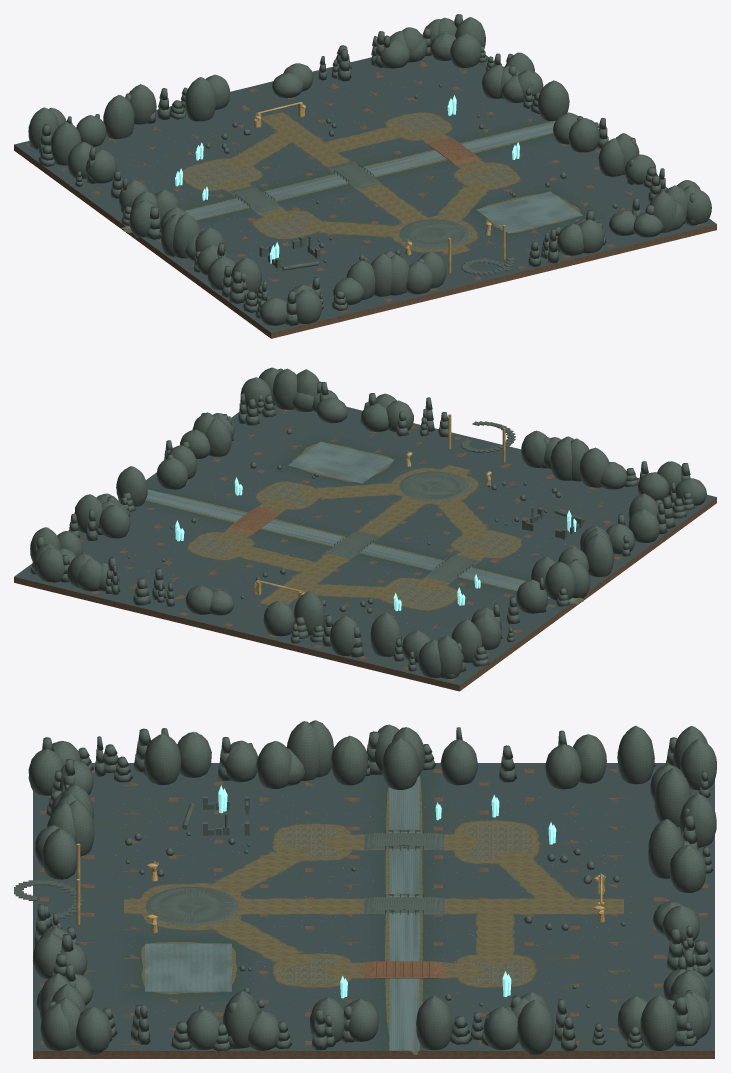
File: naga-cave.glb
3 renders of one model, top to bottom at view 1: azimuth 30°, elevation 25°; view 2: azimuth 150°, elevation 25°; view 3: azimuth 270°, elevation 25°, orthographic. The views are drawn at different scales.
Parts seen in each view (by area): view 1: Ground - varied meadow | ground_naga_cave, Open cave boundary | stone, Perimeter weathered rock strata | stone, Tracks - worn earth | path, Soil foundation | earth, Water surface 00 | water, Courtyard paving | paving_cave, Feathered road shoulders | path_edge, Water surface 01 | water, Damp canal edges | mud, Naga altar stone | stone, Bridge continuous deck | stone (+3 smaller); view 2: Ground - varied meadow | ground_naga_cave, Open cave boundary | stone, Perimeter weathered rock strata | stone, Tracks - worn earth | path, Soil foundation | earth, Water surface 00 | water, Courtyard paving | paving_cave, Feathered road shoulders | path_edge, Water surface 01 | water, Damp canal edges | mud, Naga altar stone | stone, Bridge continuous deck | stone (+3 smaller); view 3: Ground - varied meadow | ground_naga_cave, Open cave boundary | stone, Tracks - worn earth | path, Perimeter weathered rock strata | stone, Soil foundation | earth, Water surface 00 | water, Courtyard paving | paving_cave, Feathered road shoulders | path_edge, Water surface 01 | water, Naga altar stone | stone, Damp canal edges | mud, Bridge continuous deck | stone (+5 smaller).
Boxes of the visible parts, <box> form: Ground - varied meadow | ground_naga_cave: <box>14,55,716,332</box>; Open cave boundary | stone: <box>28,17,711,325</box>; Perimeter weathered rock strata | stone: <box>29,14,697,325</box>; Tracks - worn earth | path: <box>183,112,517,254</box>; Soil foundation | earth: <box>14,61,716,338</box>; Water surface 00 | water: <box>126,121,555,229</box>; Courtyard paving | paving_cave: <box>185,114,515,250</box>; Feathered road shoulders | path_edge: <box>182,112,520,254</box>; Water surface 01 | water: <box>476,191,582,233</box>; Damp canal edges | mud: <box>121,120,580,232</box>; Naga altar stone | stone: <box>402,220,465,246</box>; Bridge continuous deck | stone: <box>231,163,377,210</box>; Ground - varied meadow | ground_naga_cave: <box>14,405,716,685</box>; Open cave boundary | stone: <box>30,367,706,678</box>; Perimeter weathered rock strata | stone: <box>30,368,695,678</box>; Tracks - worn earth | path: <box>190,465,519,608</box>; Soil foundation | earth: <box>14,409,716,691</box>; Water surface 00 | water: <box>145,489,578,603</box>; Courtyard paving | paving_cave: <box>192,470,517,608</box>; Feathered road shoulders | path_edge: <box>187,465,521,610</box>; Water surface 01 | water: <box>288,441,394,483</box>; Damp canal edges | mud: <box>145,443,583,603</box>; Naga altar stone | stone: <box>402,472,465,498</box>; Bridge continuous deck | stone: <box>330,533,476,579</box>; Ground - varied meadow | ground_naga_cave: <box>33,763,714,1050</box>; Open cave boundary | stone: <box>28,720,716,1055</box>; Tracks - worn earth | path: <box>124,822,623,985</box>; Perimeter weathered rock strata | stone: <box>34,727,713,1052</box>; Soil foundation | earth: <box>33,769,714,1058</box>; Water surface 00 | water: <box>389,776,419,1050</box>; Courtyard paving | paving_cave: <box>151,823,531,984</box>; Feathered road shoulders | path_edge: <box>124,820,623,987</box>; Water surface 01 | water: <box>145,943,231,991</box>; Naga altar stone | stone: <box>150,888,233,923</box>; Damp canal edges | mud: <box>141,775,422,1054</box>; Bridge continuous deck | stone: <box>374,833,434,913</box>.
Bounding box in the file's own units: 186 × 19.58 × 186.
Materials: 14 (12 with a texture image).
